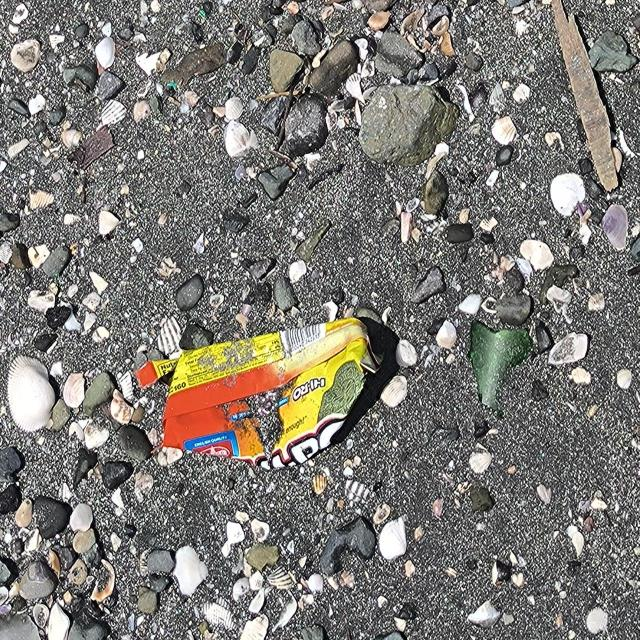plastic_waste: (160, 317, 390, 465)
